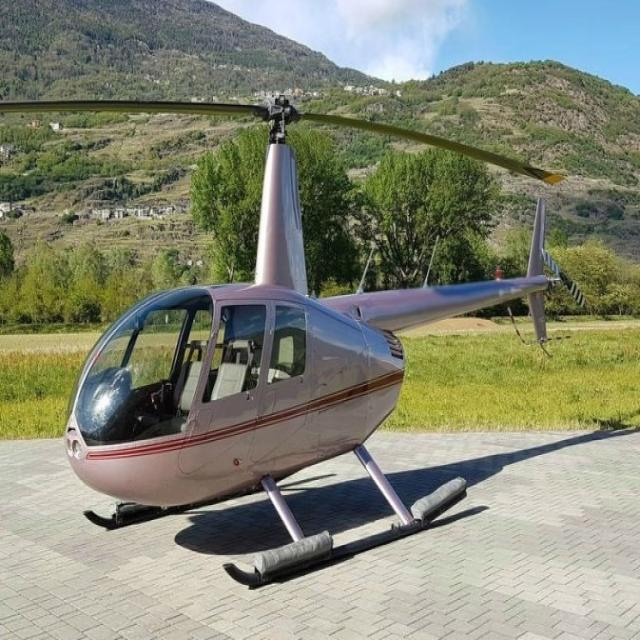CIV_HELO: (56, 94, 562, 591)
